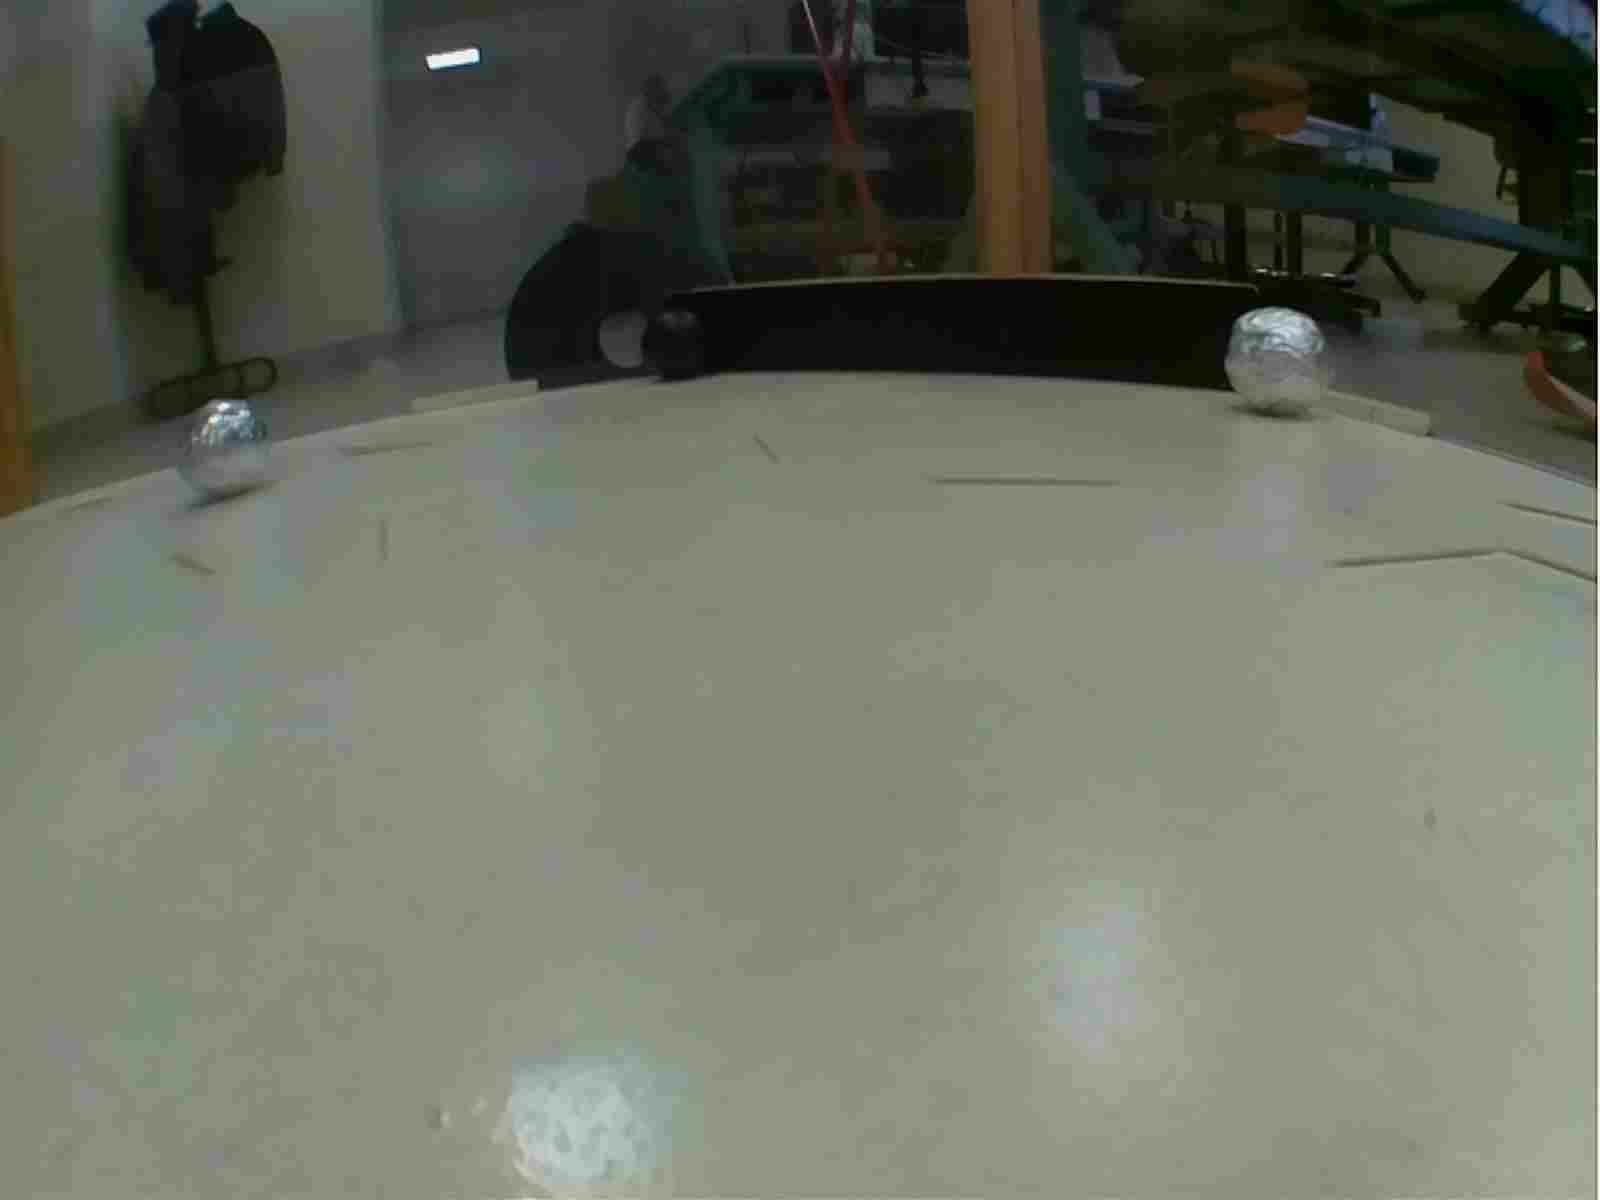bianca: (1221, 305, 1335, 418), (176, 397, 280, 500)
nera: (637, 301, 719, 382)
